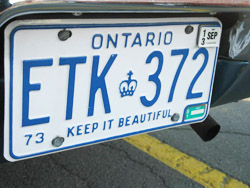license plate: (1, 15, 222, 166)
